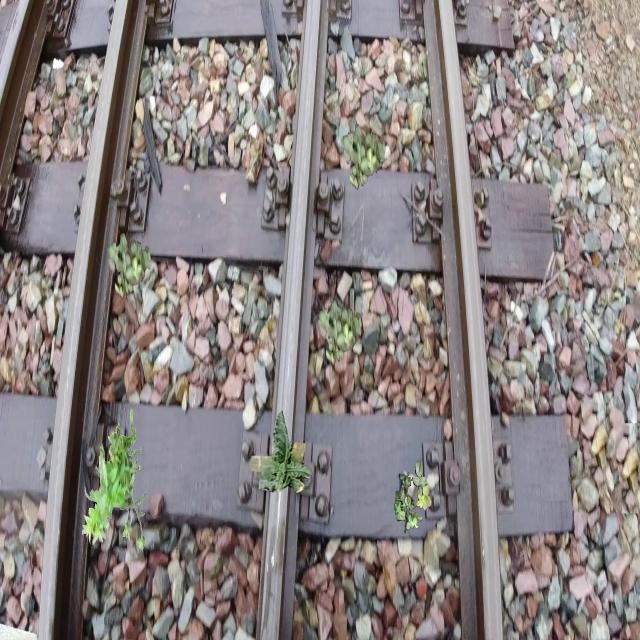Plant: (82, 409, 146, 552), (248, 410, 312, 493), (318, 299, 362, 366), (342, 124, 386, 190), (107, 233, 150, 300), (394, 460, 432, 534)
